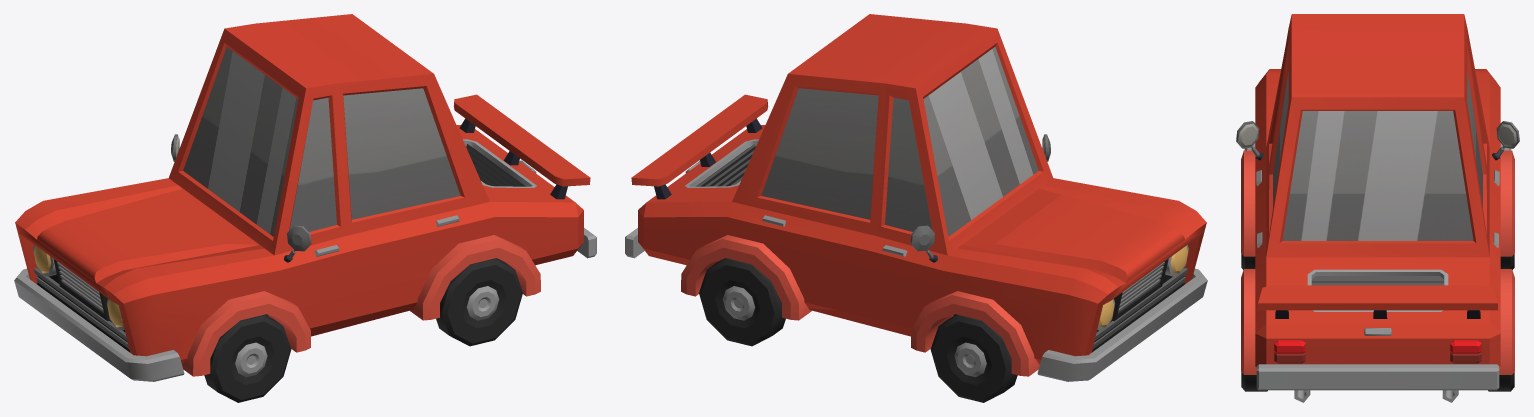
The model's file is Car_6_C.gltf.
The picture shows the model from 3 angles, left to right: view 1: azimuth 30°, elevation 25°; view 2: azimuth 150°, elevation 25°; view 3: azimuth 270°, elevation 25°; orthographic projection. The views are drawn at different scales.
Visible parts, largest first — view 1: Car_6_C, RL, FL; view 2: Car_6_C, RR, FR; view 3: Car_6_C, RL, RR.
Part boxes in pixels (<box>): Car_6_C: <box>14,14,596,381</box>; RL: <box>436,258,522,346</box>; FL: <box>204,314,291,402</box>; Car_6_C: <box>625,14,1207,381</box>; RR: <box>699,258,785,346</box>; FR: <box>930,314,1017,402</box>; Car_6_C: <box>1236,14,1519,402</box>; RL: <box>1241,372,1267,391</box>; RR: <box>1488,372,1514,391</box>.
Size of the model in its own units: 3.1 by 1.72 by 1.51.
4 materials, 4 textured.
